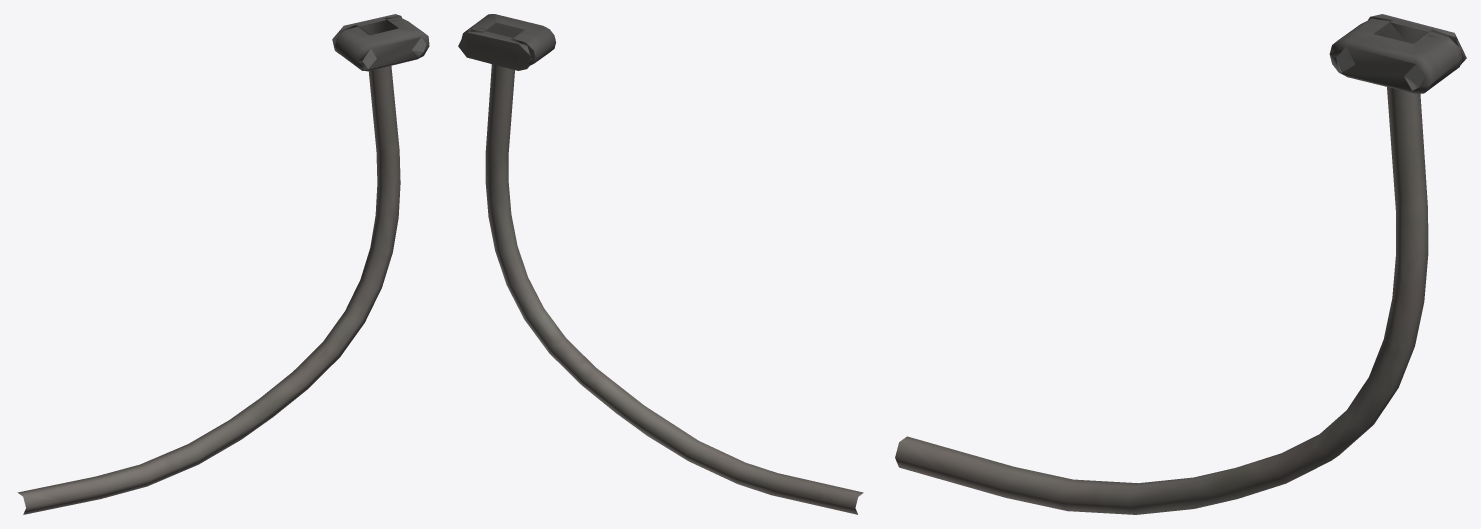
Rendered from modular-electric-cables-turn.glb.
3 views of the same model, side by side, from view 1: azimuth 30°, elevation 25°; view 2: azimuth 150°, elevation 25°; view 3: azimuth 330°, elevation 25° (orthographic). The views are drawn at different scales.
Visible parts, largest first — view 1: modular_electric_cables_turn; view 2: modular_electric_cables_turn; view 3: modular_electric_cables_turn.
Boxes of the visible parts, x1=… form: modular_electric_cables_turn: x1=17, y1=14, x2=429, y2=514; modular_electric_cables_turn: x1=458, y1=14, x2=863, y2=514; modular_electric_cables_turn: x1=895, y1=14, x2=1466, y2=514.
Size of the model in its own units: 0.2208 by 0.2134 by 0.0259.
Materials: 1 (1 with a texture image).
